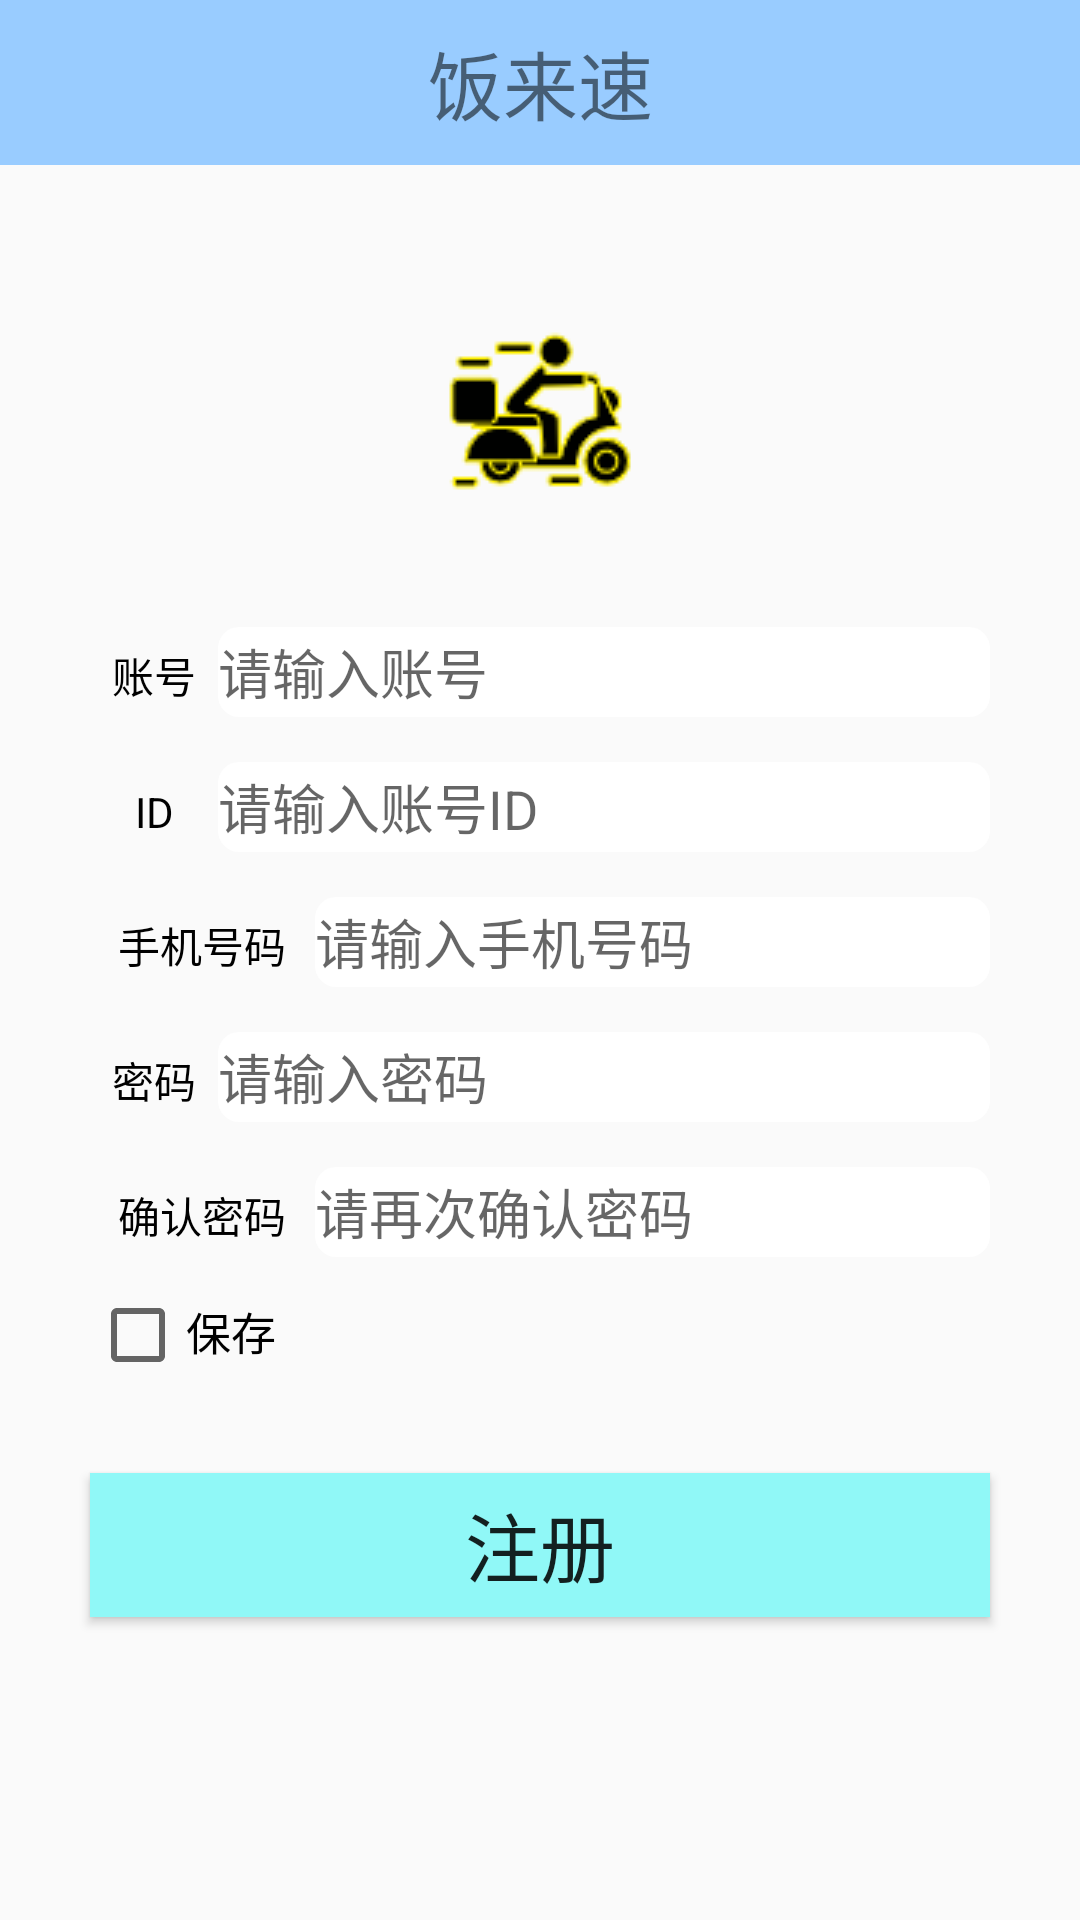

Locate icon controls on the screen. Image size 1080*1920, boxes as (x1, y1, x2, y2).
fanlaisu: (449, 333, 631, 490)
